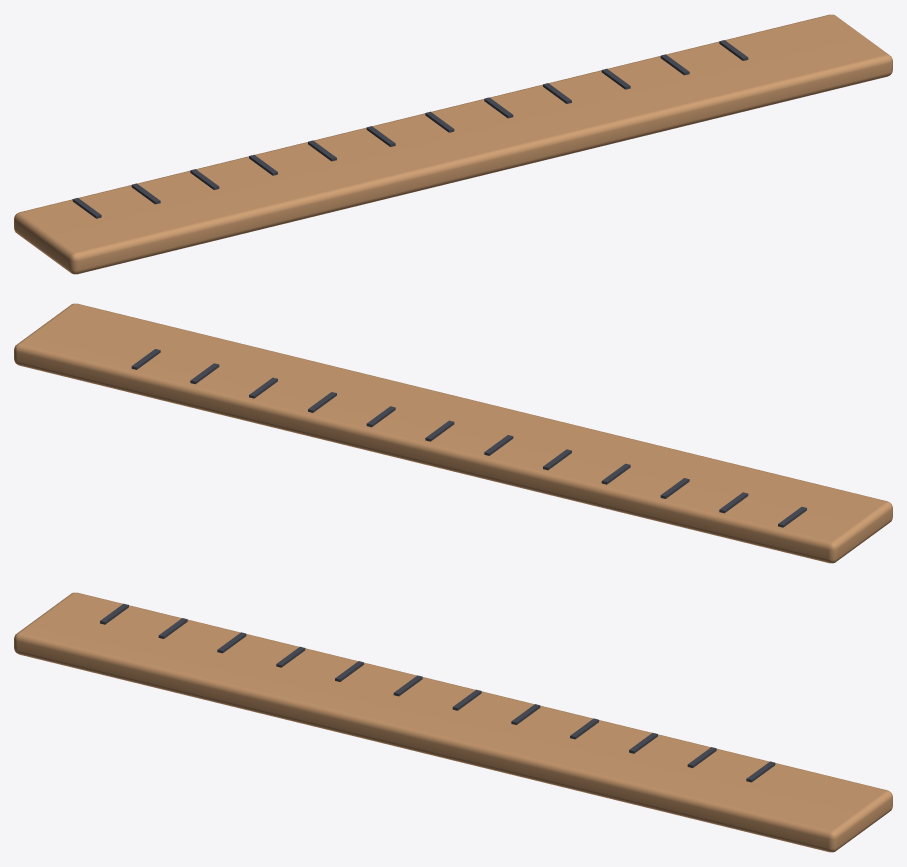
File: officeRuler.glb
The picture shows the model from 3 angles, top to bottom: view 1: azimuth 30°, elevation 25°; view 2: azimuth 150°, elevation 25°; view 3: azimuth 330°, elevation 25°; orthographic projection.
Parts seen in each view (by area): view 1: Ruler; view 2: Ruler; view 3: Ruler.
Boxes of the visible parts, <box> form: Ruler: <box>14,14,892,274</box>; Ruler: <box>14,303,892,563</box>; Ruler: <box>14,592,892,852</box>.
Bounding box in the file's own units: 1.4 × 0.0395 × 0.18.
